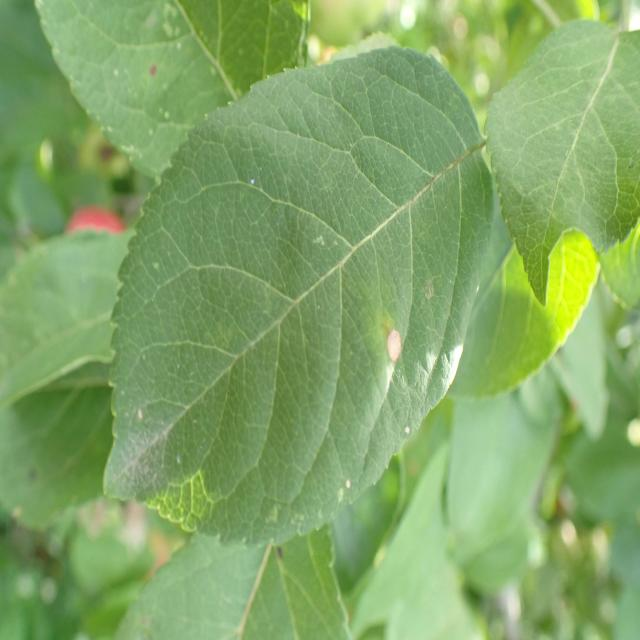Black Rot: (376, 319, 416, 373)
scab: (385, 116, 495, 218)
